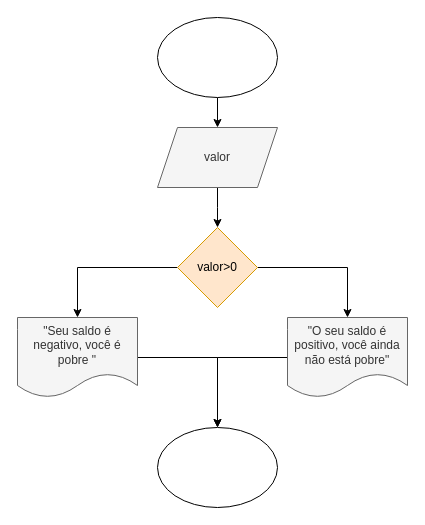
This 425x525 diagram has some shape labels left out. The shapes that lost their labels are listed below. From the top down, each one's centre as x and y in pixels, then its label:
At (217,57): "inicio".
At (217,467): "fim".
